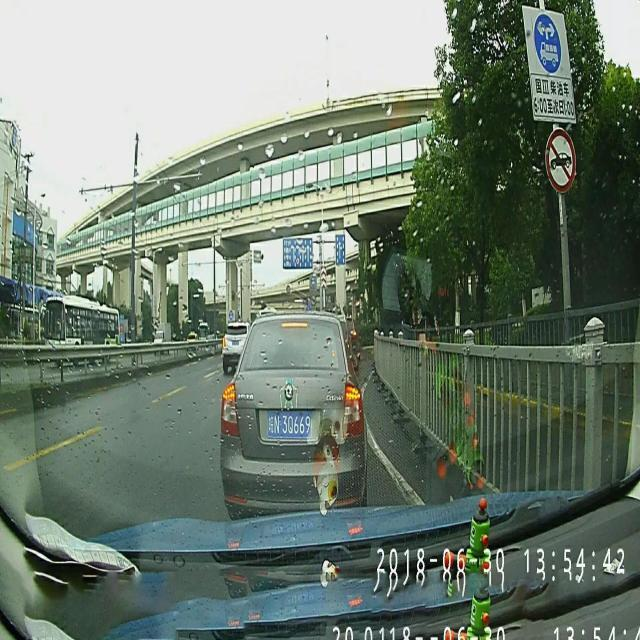car: (218, 313, 368, 518), (221, 320, 251, 369)
